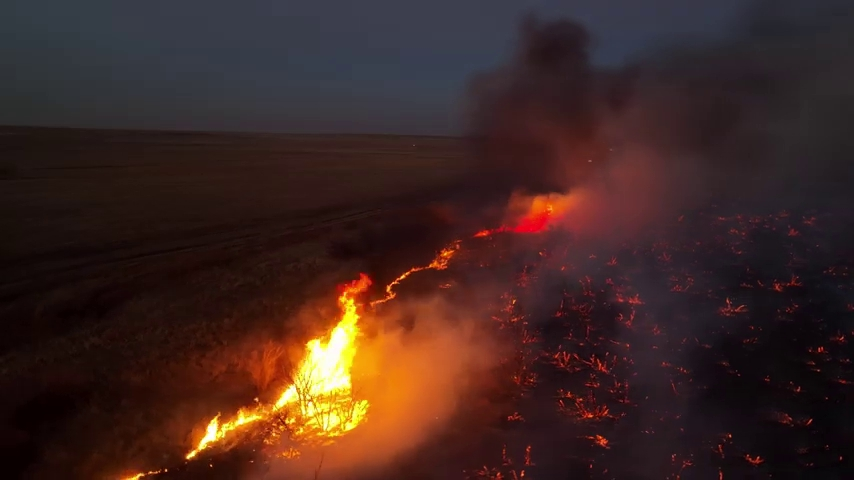forest_fire: (186, 274, 371, 459), (369, 240, 459, 305), (473, 198, 554, 237)
